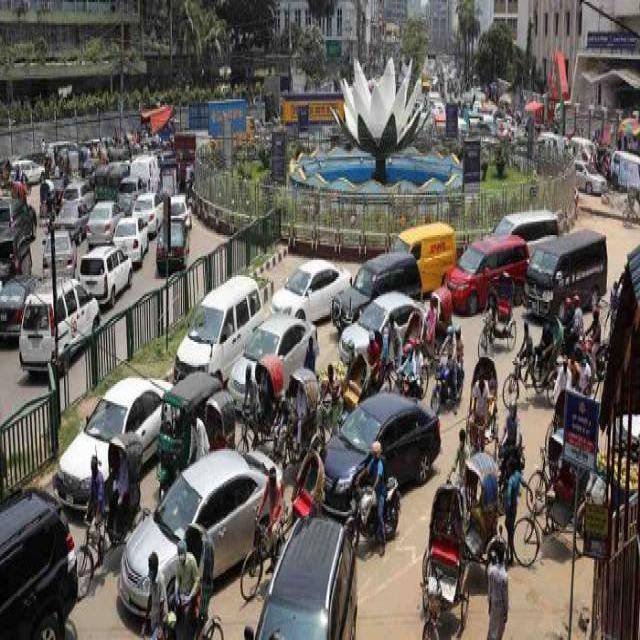Ad-signs: (562, 388, 599, 470)
Car: (116, 445, 277, 621), (318, 390, 441, 510)
